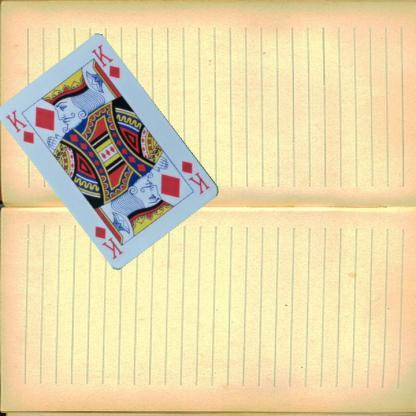Kd: (179, 158, 212, 196), (3, 107, 36, 145)
